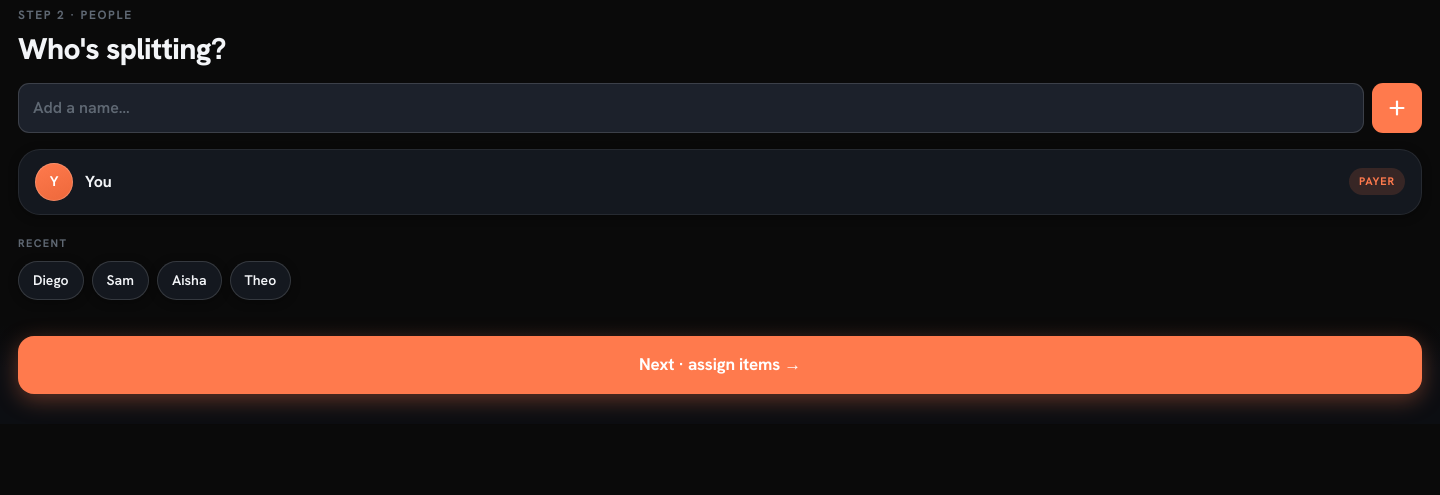
Test: <PeopleScreen /> › adding a name via button adds person to the store
Type "Alice" into the field labelled "Add a name…" at (691, 108), box [18,82,1364,132]
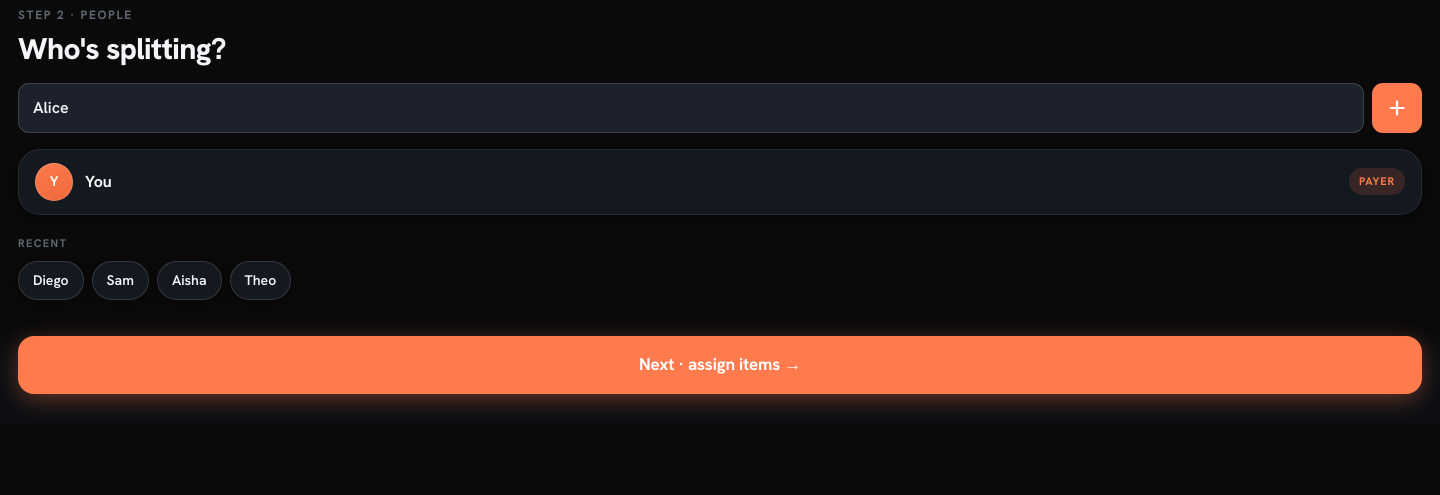
Click the button named "add person" at (1397, 108), box [1372,82,1422,132]
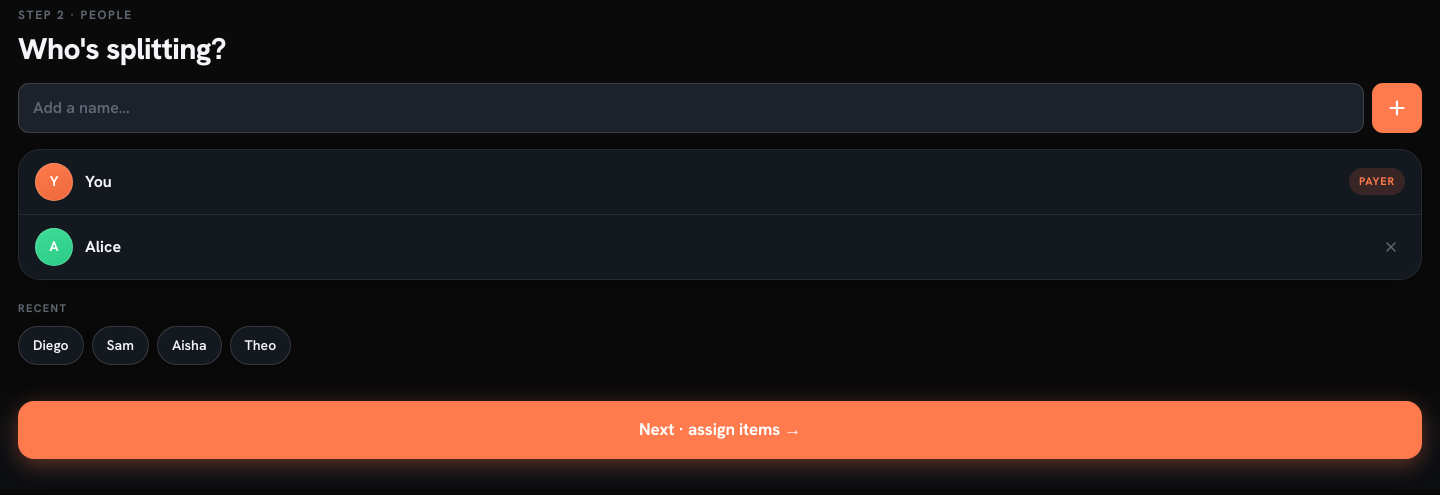
Now the text "Alice" is shown, box [85,236,121,256]
